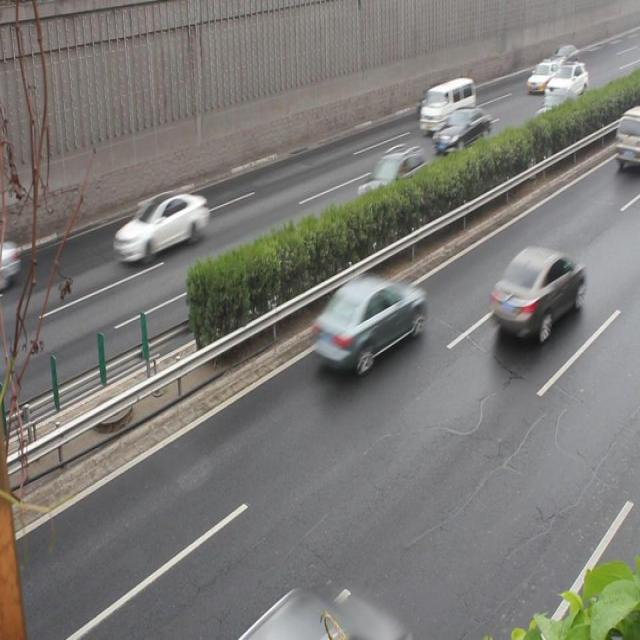car: (312, 273, 424, 366), (488, 240, 582, 338), (112, 189, 209, 257), (355, 141, 425, 211), (432, 106, 490, 156), (526, 88, 578, 140), (542, 59, 586, 102), (526, 59, 560, 90), (0, 230, 19, 284)
